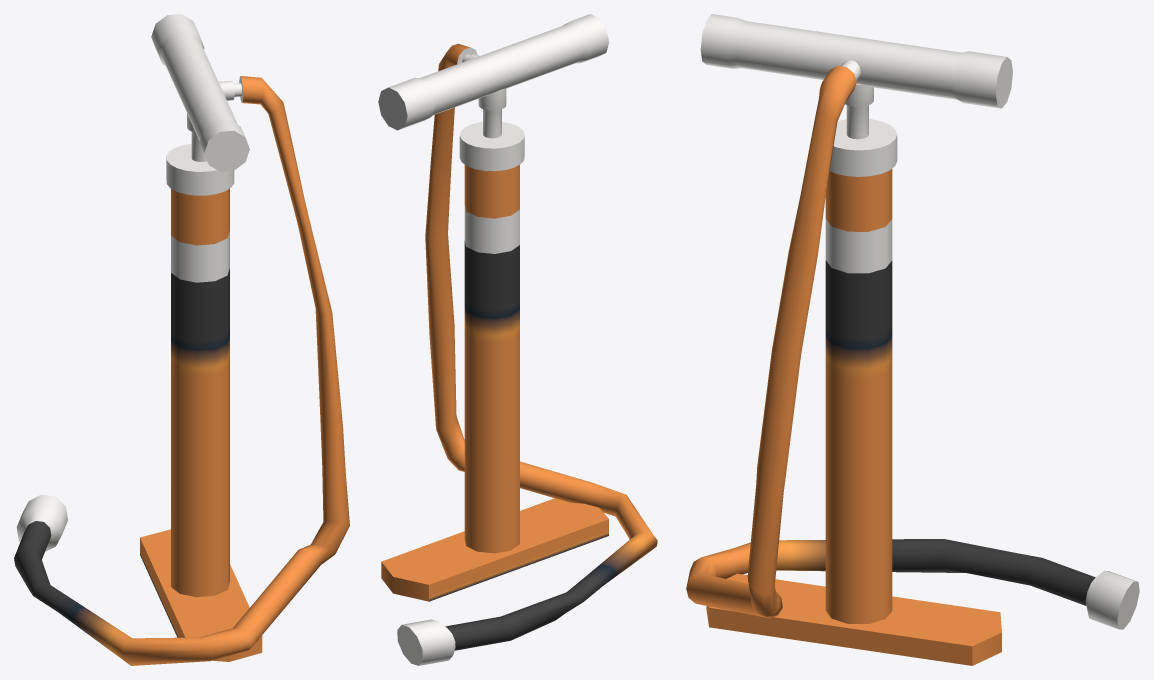
File: Garage_Pump.fbx
3 renders of one model, left to right at view 1: azimuth 30°, elevation 25°; view 2: azimuth 150°, elevation 25°; view 3: azimuth 270°, elevation 25°, orthographic. The views are drawn at different scales.
Visible parts, largest first — view 1: Garage_Pump; view 2: Garage_Pump; view 3: Garage_Pump.
Boxes of the visible parts, box(x1,y1,x2,y2) form: Garage_Pump: box(14, 14, 349, 665); Garage_Pump: box(378, 14, 657, 665); Garage_Pump: box(686, 14, 1139, 665).
Bounding box in the file's own units: 35.39 × 78.86 × 53.21.
